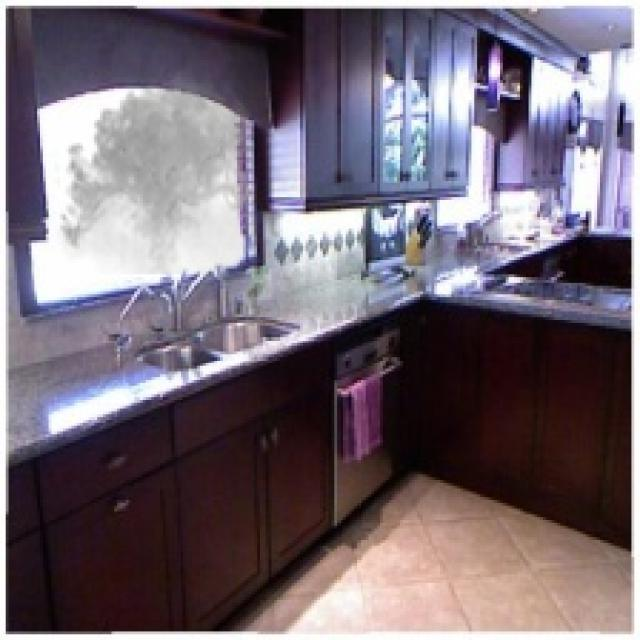Smoke: (54, 59, 257, 274)
